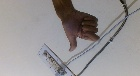hand: (54, 9, 102, 52)
